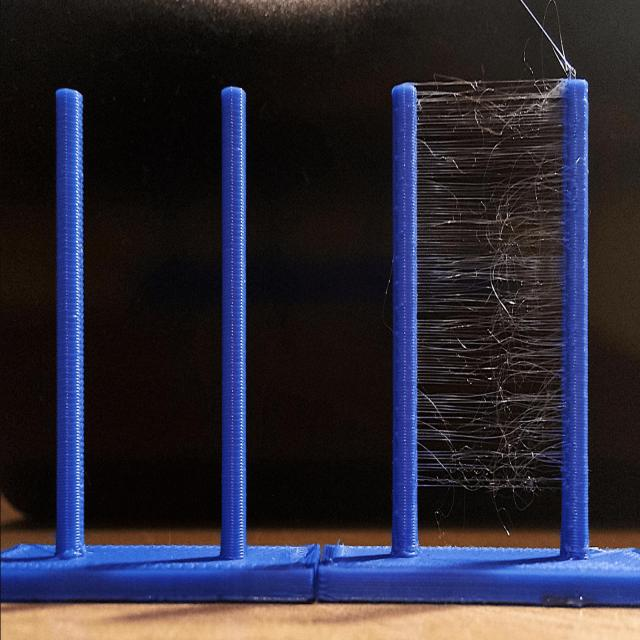Stringing: (412, 78, 568, 496)
